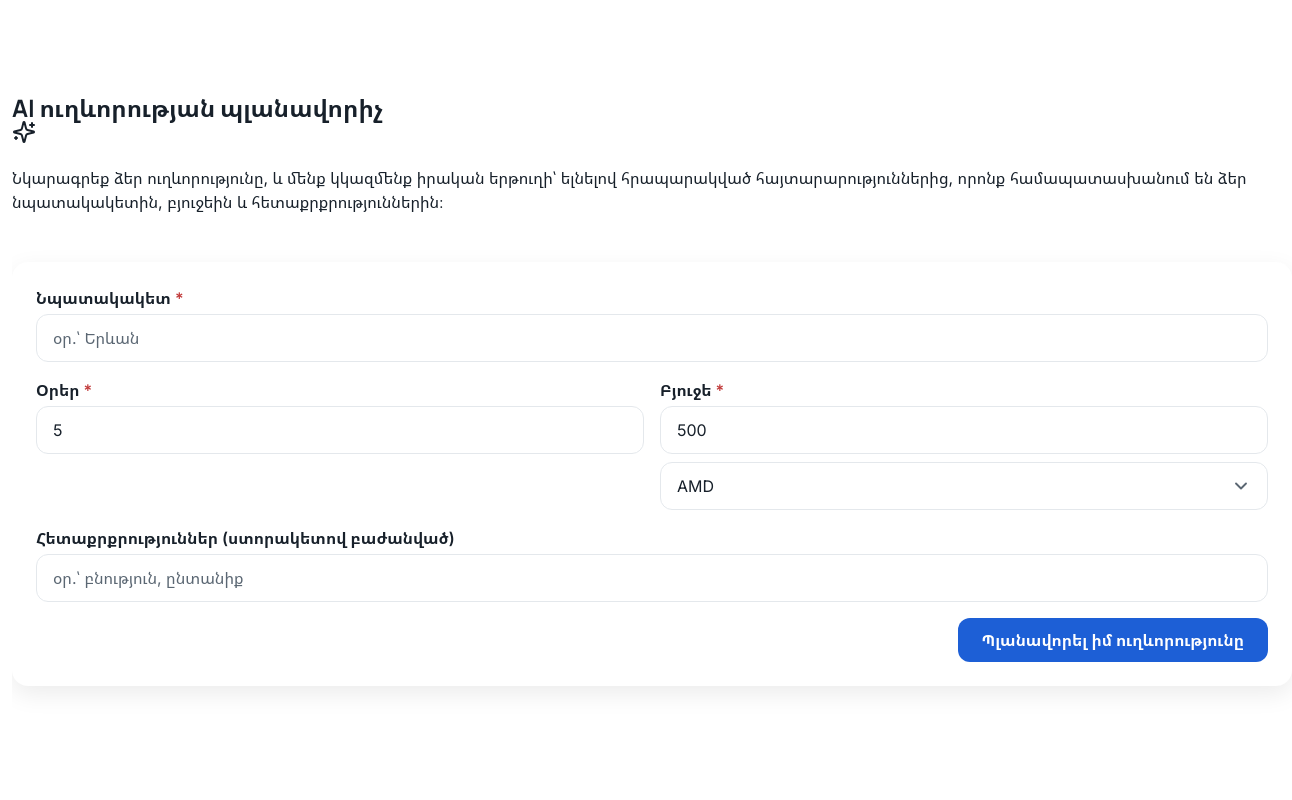
Scenario: TripPlannerPageContent (apps/web/src/modules/ai) › submitting the form renders the returned itinerary
Type "Yerevan" into the field labelled "Նպատակակետ *".
click(652, 338); type("Yerevan")  # box top-left (53, 315), bottom-right (1251, 361)
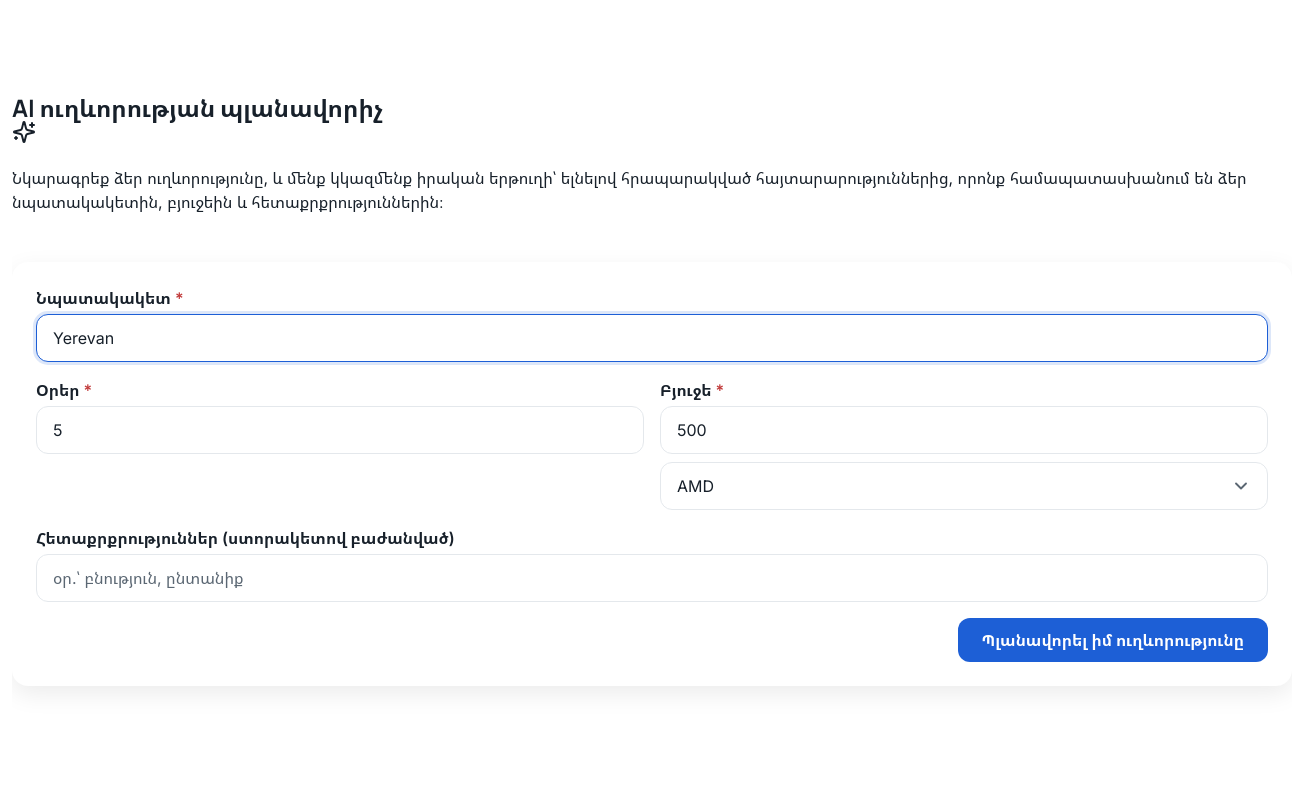
Click the button "Պլանավորել իմ ուղևորությունը".
click(1113, 640)  # box top-left (958, 618), bottom-right (1268, 662)
(page scrolled)
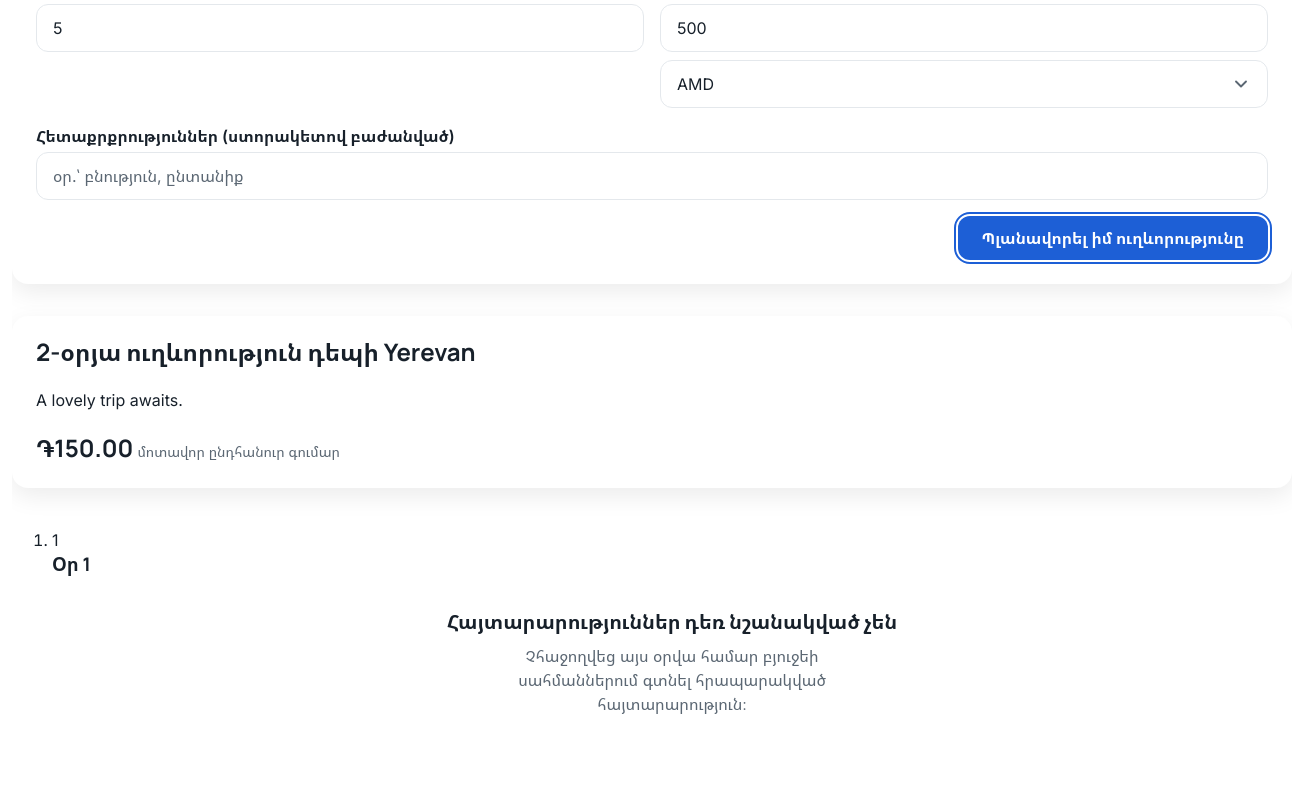
Expected: the text "A lovely trip awaits." is shown, top-left (36, 390), bottom-right (183, 410)
